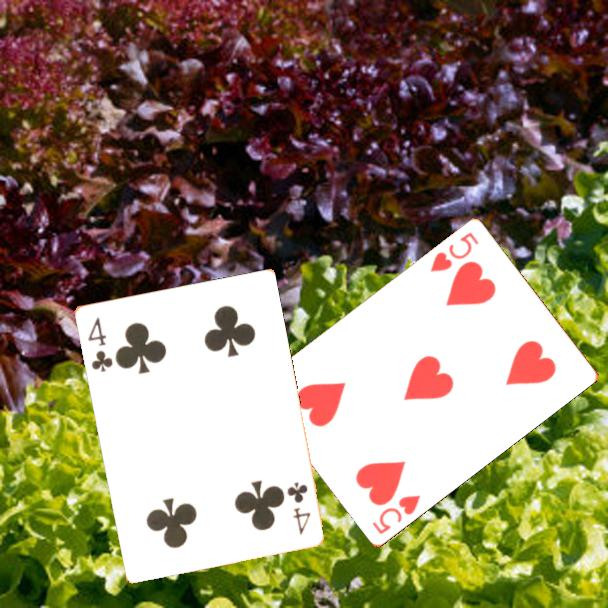c04: (84, 313, 115, 375), (284, 478, 313, 538)
h05: (427, 228, 482, 275), (369, 491, 423, 537)
